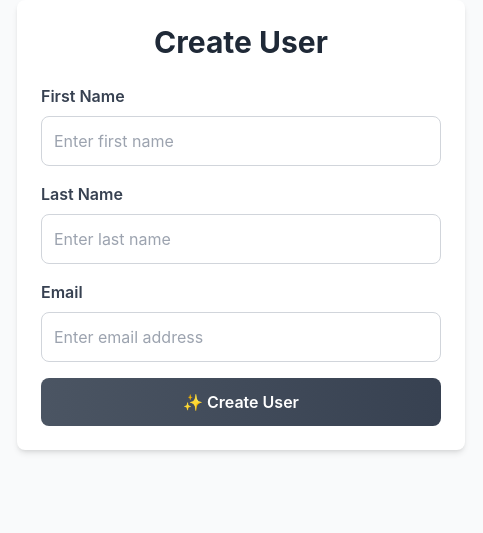
Test: CreateUser Component › Form Submission › handles general server errors
This screenshot has width=483, height=533.
Type "John" into the field with test id "first-name-input" at (241,141), box [41, 116, 441, 166]
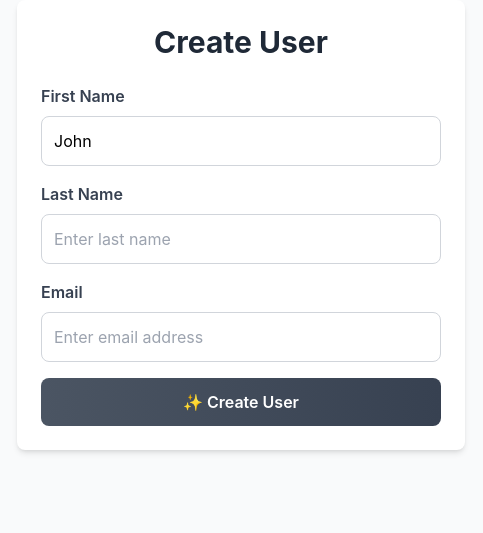
Type "Doe" into the field with test id "last-name-input" at (241,239), box [41, 214, 441, 264]
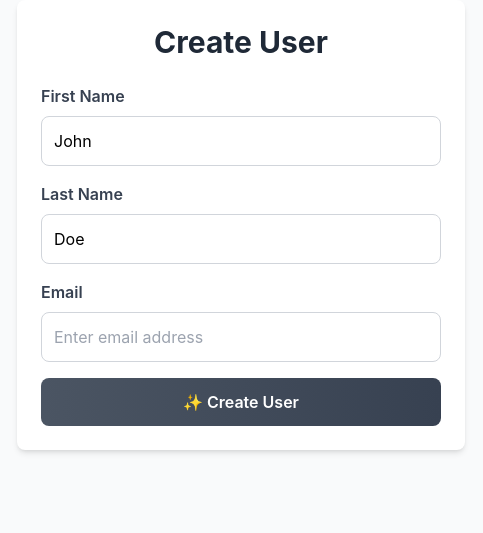
Type "john@example.com" into the field with test id "email-input" at (241,337), box [41, 312, 441, 362]
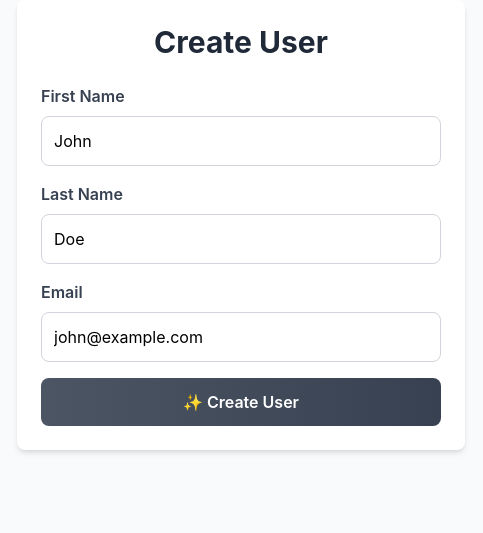
Click the button with test id "submit-button" at (241,402), box [41, 378, 441, 426]
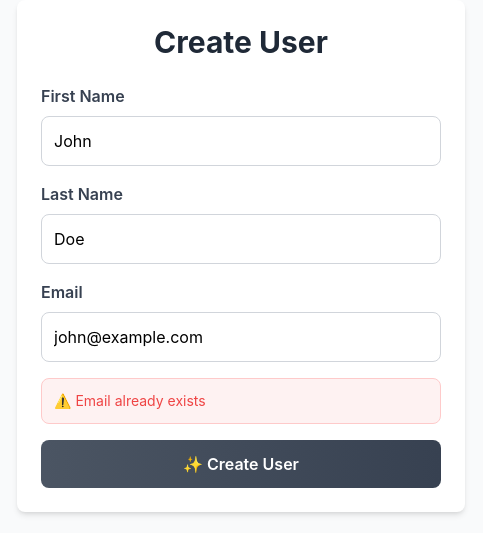
Now the text with test id "general-error" shows "Email already exists", box [75, 392, 206, 409]
